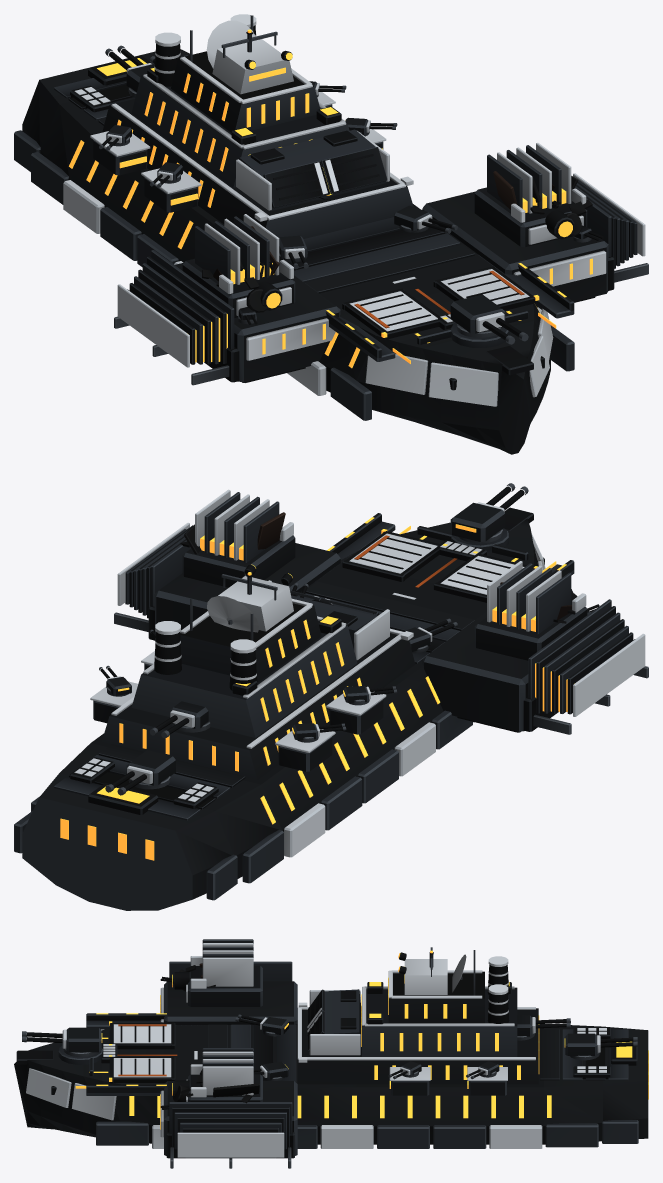
The model's file is helion-ark.glb.
3 renders of one model, top to bottom at view 1: azimuth 30°, elevation 25°; view 2: azimuth 150°, elevation 25°; view 3: azimuth 270°, elevation 25°, orthographic. The views are drawn at different scales.
Parts seen in each view (by area): view 1: ark_hull, ark_radiator_right, ark_radiator_left, ark_bridge, ark_bridge_shutter_b, ark_bridge_shutter_a, ark_bay_left_door, ark_bay_right_door, ark_radiator_right_wreck, ark_bay_left, ark_radiator_left_wreck, ark_bay_right; view 2: ark_hull, ark_radiator_left, ark_radiator_right, ark_bridge, ark_bay_right_door, ark_bay_left_door, ark_bay_right, ark_radiator_right_wreck, ark_bay_left; view 3: ark_hull, ark_radiator_left, ark_radiator_right, ark_bridge, ark_bay_left_door, ark_bay_right_door, ark_radiator_right_wreck, ark_bay_left, ark_bay_right, ark_bridge_shutter_a.
Part boxes in pixels (<box>): ark_hull: <box>14,14,648,454</box>; ark_radiator_right: <box>474,142,587,247</box>; ark_radiator_left: <box>182,214,295,317</box>; ark_bridge: <box>236,129,389,211</box>; ark_bridge_shutter_b: <box>321,147,387,193</box>; ark_bridge_shutter_a: <box>263,161,330,208</box>; ark_bay_left_door: <box>349,291,437,331</box>; ark_bay_right_door: <box>441,269,529,304</box>; ark_radiator_right_wreck: <box>493,171,592,237</box>; ark_bay_left: <box>342,288,447,339</box>; ark_radiator_left_wreck: <box>202,226,279,312</box>; ark_bay_right: <box>433,266,539,310</box>; ark_hull: <box>14,483,648,910</box>; ark_radiator_left: <box>474,561,587,660</box>; ark_radiator_right: <box>182,489,295,587</box>; ark_bridge: <box>268,580,389,660</box>; ark_bay_right_door: <box>349,533,437,573</box>; ark_bay_left_door: <box>440,556,524,594</box>; ark_bay_right: <box>342,529,447,581</box>; ark_radiator_right_wreck: <box>180,512,285,554</box>; ark_bay_left: <box>433,551,537,602</box>; ark_hull: <box>14,947,648,1168</box>; ark_radiator_left: <box>172,939,262,1006</box>; ark_radiator_right: <box>172,1048,262,1101</box>; ark_bridge: <box>307,989,361,1055</box>; ark_bay_left_door: <box>113,1024,171,1043</box>; ark_bay_right_door: <box>113,1058,171,1077</box>; ark_radiator_right_wreck: <box>173,1069,259,1103</box>; ark_bay_left: <box>109,1021,175,1049</box>; ark_bay_right: <box>109,1055,175,1083</box>; ark_bridge_shutter_a: <box>307,989,324,1028</box>.
Size of the model in its own units: 7.53 by 3.6 by 11.86.
